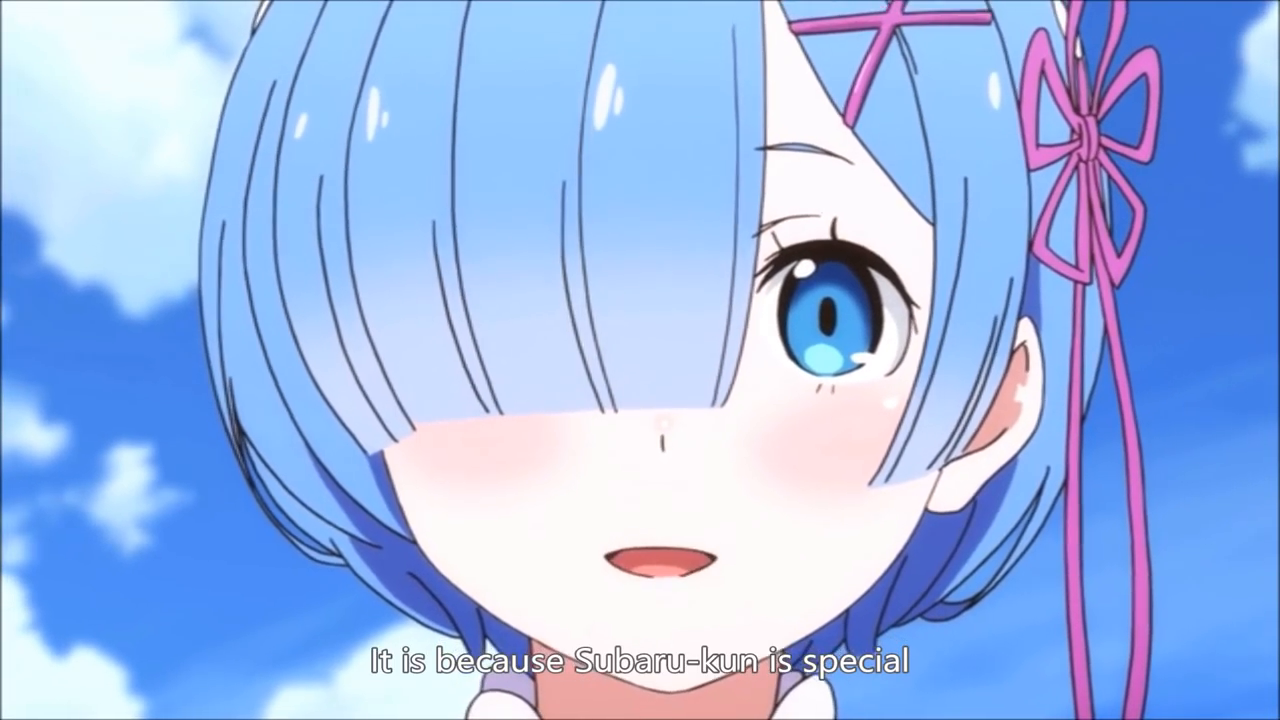REM: (184, 2, 1114, 693)
